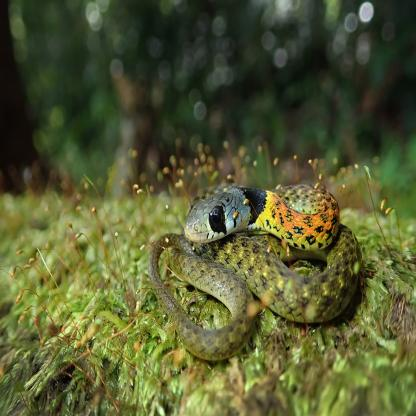Snake: (151, 179, 362, 360)
